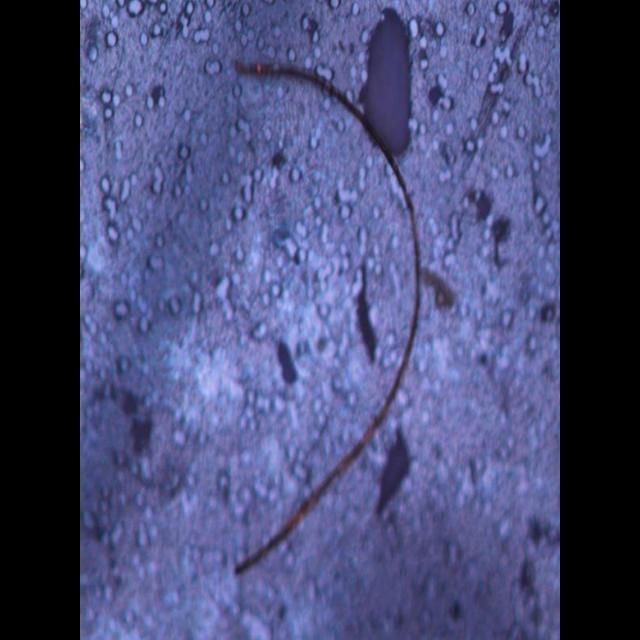Fibre: (228, 50, 426, 592)
